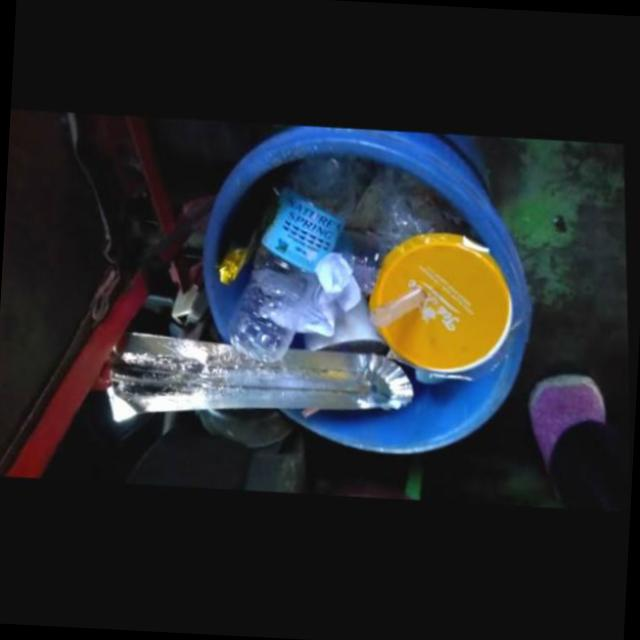chai_nhua_pet: (234, 161, 361, 366)
hop_nhua: (373, 234, 517, 376)
nhom: (110, 335, 418, 426)
ong_hut_nhua: (375, 291, 429, 329)
